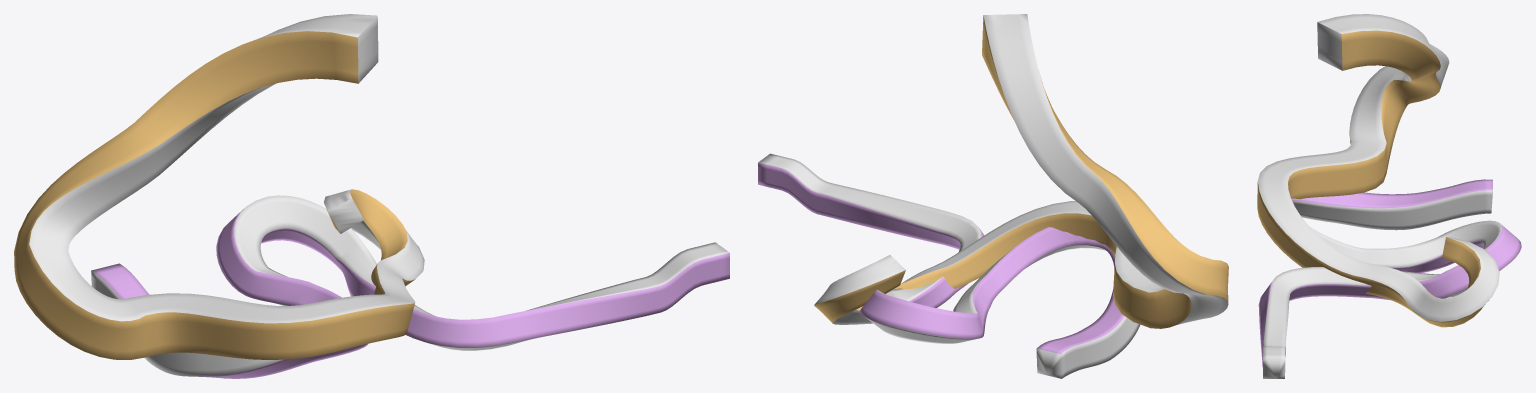
File: DesertTower.fbx
The picture shows the model from 3 angles, left to right: view 1: azimuth 30°, elevation 25°; view 2: azimuth 150°, elevation 25°; view 3: azimuth 270°, elevation 25°; orthographic projection. The views are drawn at different scales.
Visible parts, largest first — view 1: WeirdCurve3, weird_curve; view 2: WeirdCurve3, weird_curve; view 3: WeirdCurve3, weird_curve.
Part boxes in pixels (left/top/right/bottom): WeirdCurve3: left=14, top=14, right=424, bottom=359; weird_curve: left=91, top=195, right=729, bottom=378; WeirdCurve3: left=814, top=14, right=1228, bottom=328; weird_curve: left=758, top=153, right=1140, bottom=378; WeirdCurve3: left=1257, top=14, right=1499, bottom=327; weird_curve: left=1258, top=179, right=1521, bottom=378.
Bounding box in the file's own units: 273 × 130 × 142.
